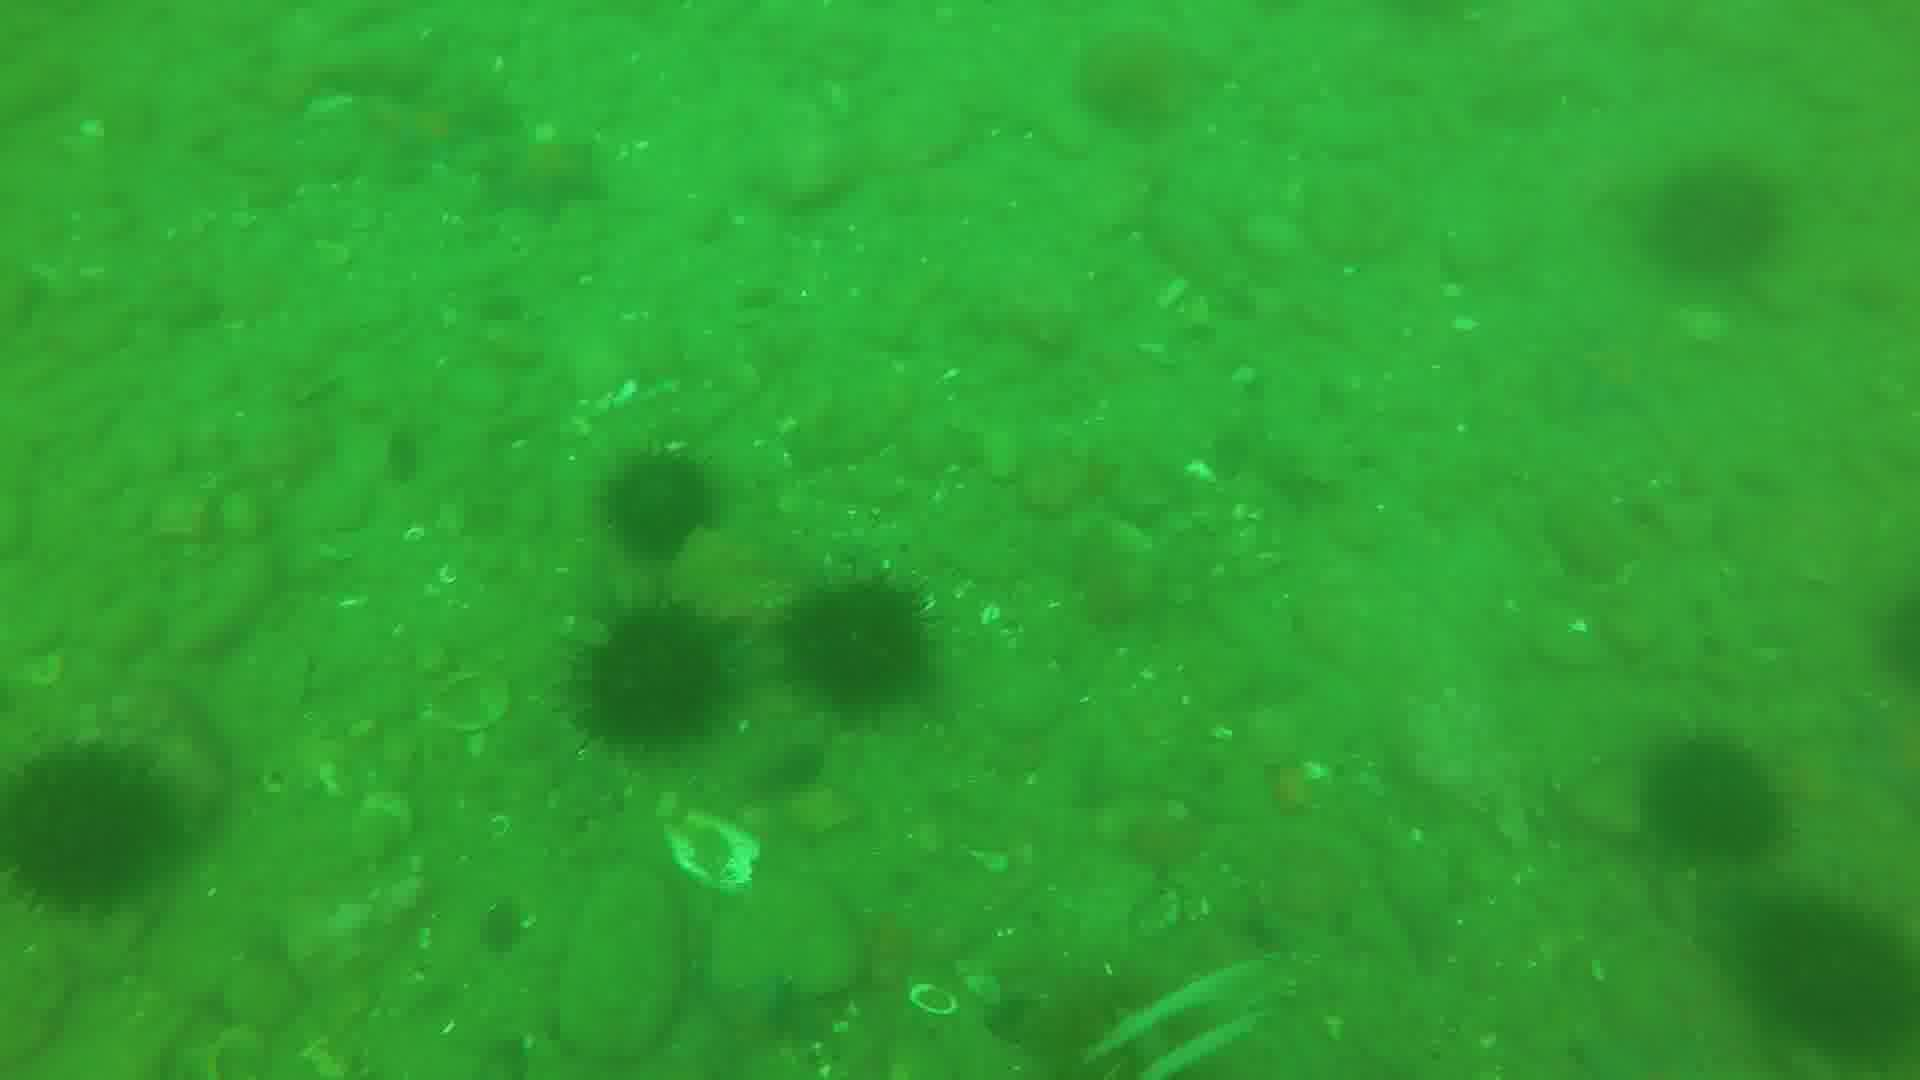echinus: (1718, 899, 1920, 1063), (1, 738, 177, 918), (551, 601, 727, 756), (785, 572, 927, 719), (1627, 725, 1772, 866), (1643, 158, 1780, 282), (1068, 26, 1197, 123), (597, 454, 709, 545)
scallop: (659, 810, 764, 891), (415, 673, 514, 735), (913, 976, 959, 1017)
starfish: (476, 135, 615, 227)
